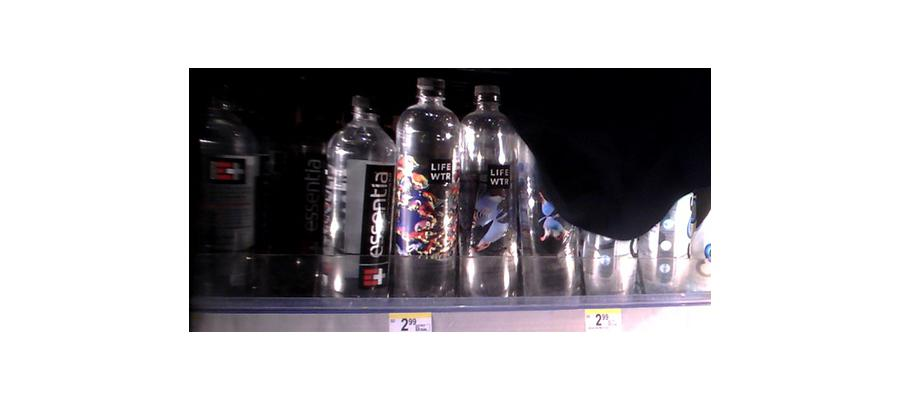bottle: (458, 84, 533, 308), (320, 88, 393, 306), (391, 73, 459, 302), (191, 104, 257, 296), (520, 151, 580, 294), (576, 209, 642, 299), (642, 190, 697, 295)
